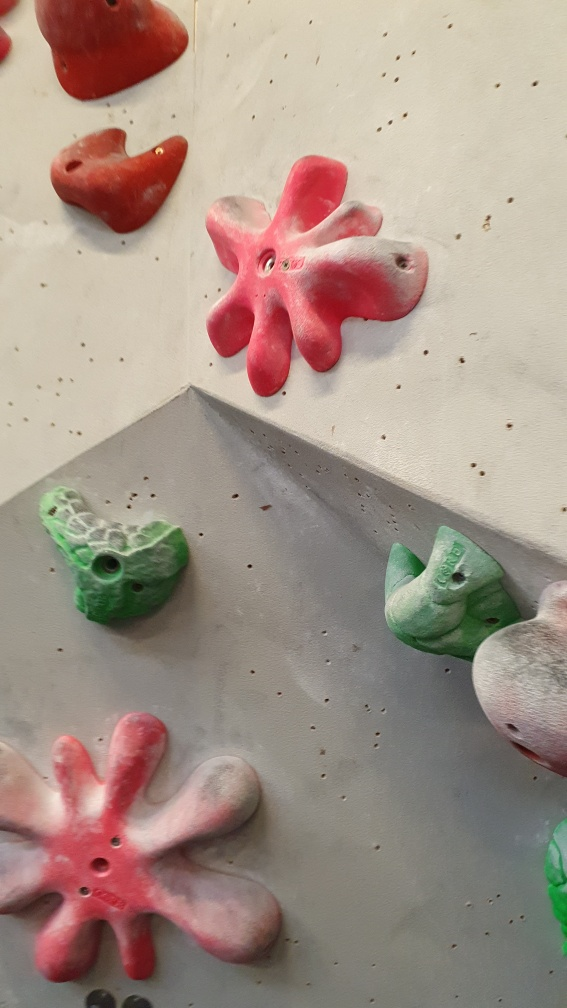Hand Start: (80, 987, 117, 1007), (119, 992, 150, 1007)
Jug: (377, 522, 528, 668)
Octopus Pinch: (1, 704, 283, 990), (198, 152, 431, 400)
Sloper: (468, 572, 567, 778)
